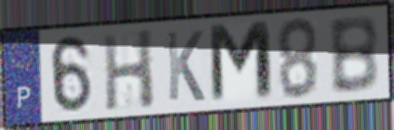6: (48, 32, 96, 117)
8: (275, 15, 322, 103)
B: (326, 13, 381, 97)
H: (100, 27, 157, 114)
K: (164, 28, 207, 104)
M: (205, 18, 277, 107)
